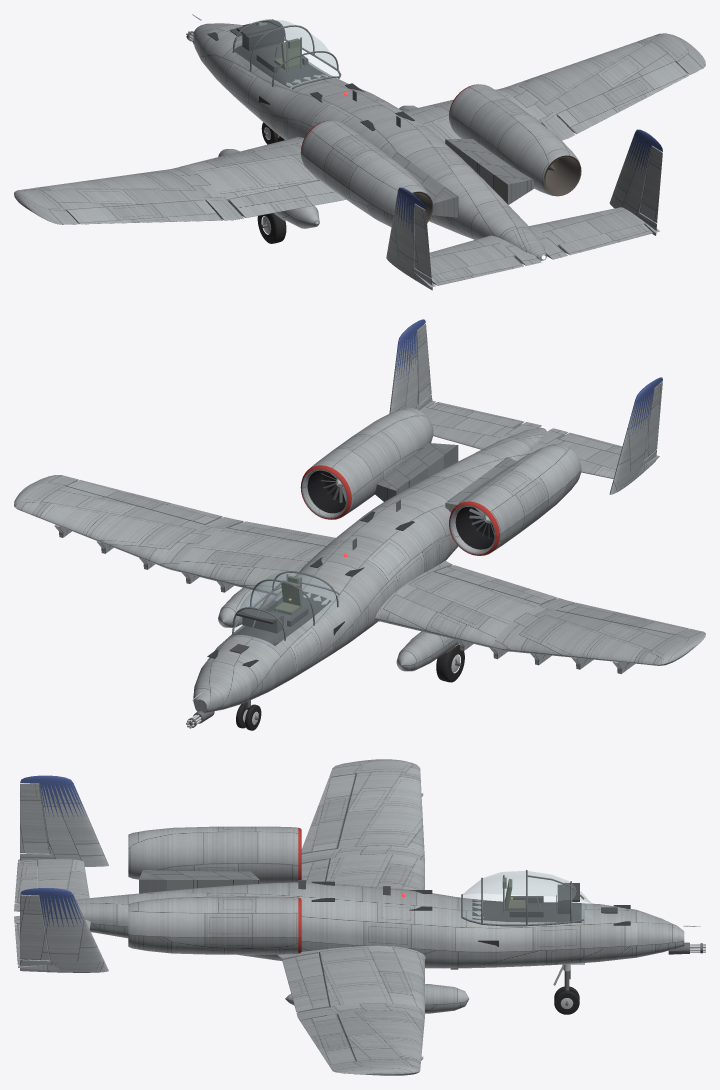
The picture shows the model from 3 angles, top to bottom: view 1: azimuth 30°, elevation 25°; view 2: azimuth 150°, elevation 25°; view 3: azimuth 270°, elevation 25°; orthographic projection. The views are drawn at different scales.
Visible parts, largest first — view 1: Fuselage, Wing_Left, Engine_Right, Wing_Right, Engine_Left, Canopy_Glass, Cockpit_Interior, Deceleron_Right_Upper, Deceleron_Left_Upper, HorizontalTail_Right, HorizontalTail_Left, Flap_Left (+10 smaller); view 2: Fuselage, Wing_Left, Wing_Right, Engine_Right, Engine_Left, Canopy_Glass, Cockpit_Interior, VerticalTail_Left, HorizontalTail_Right, Nose, VerticalTail_Right, Deceleron_Right_Upper (+13 smaller); view 3: Fuselage, Wing_Right, Wing_Left, Engine_Left, Engine_Right, Canopy_Glass, VerticalTail_Left, VerticalTail_Right, Cockpit_Interior, Deceleron_Left_Upper, Flap_Right, Rudder_Left (+10 smaller).
Boxes of the visible parts, x1=… form: Fuselage: x1=199, y1=24, x2=546, y2=260; Wing_Left: x1=14, y1=137, x2=319, y2=224; Engine_Right: x1=445, y1=84, x2=581, y2=204; Wing_Right: x1=404, y1=33, x2=705, y2=141; Engine_Left: x1=300, y1=120, x2=458, y2=227; Canopy_Glass: x1=234, y1=20, x2=339, y2=88; Cockpit_Interior: x1=234, y1=19, x2=329, y2=87; Deceleron_Right_Upper: x1=557, y1=61, x2=688, y2=133; Deceleron_Left_Upper: x1=66, y1=200, x2=222, y2=224; HorizontalTail_Right: x1=529, y1=207, x2=659, y2=259; HorizontalTail_Left: x1=408, y1=235, x2=541, y2=287; Flap_Left: x1=228, y1=180, x2=345, y2=217; Fuselage: x1=203, y1=427, x2=546, y2=702; Wing_Left: x1=374, y1=560, x2=705, y2=665; Wing_Right: x1=14, y1=475, x2=325, y2=595; Engine_Right: x1=300, y1=407, x2=458, y2=519; Engine_Left: x1=445, y1=444, x2=581, y2=555; Canopy_Glass: x1=233, y1=572, x2=339, y2=645; Cockpit_Interior: x1=233, y1=574, x2=331, y2=645; VerticalTail_Left: x1=609, y1=377, x2=662, y2=494; HorizontalTail_Right: x1=420, y1=400, x2=541, y2=449; Nose: x1=193, y1=662, x2=251, y2=713; VerticalTail_Right: x1=389, y1=319, x2=432, y2=413; Deceleron_Right_Upper: x1=67, y1=480, x2=222, y2=524; Fuselage: x1=76, y1=882, x2=636, y2=968; Wing_Right: x1=278, y1=945, x2=425, y2=1075; Wing_Left: x1=301, y1=759, x2=424, y2=889; Engine_Left: x1=128, y1=826, x2=301, y2=893; Engine_Right: x1=128, y1=896, x2=301, y2=954; Canopy_Glass: x1=463, y1=871, x2=591, y2=923; VerticalTail_Left: x1=20, y1=775, x2=108, y2=866; VerticalTail_Right: x1=20, y1=888, x2=108, y2=972; Cockpit_Interior: x1=472, y1=875, x2=581, y2=922; Deceleron_Left_Upper: x1=301, y1=774, x2=355, y2=853; Flap_Right: x1=282, y1=953, x2=329, y2=1012; Rudder_Left: x1=20, y1=783, x2=49, y2=853.
Size of the model in its own units: 17.49 by 4.53 by 16.32.
Materials: 18 (2 with a texture image).
